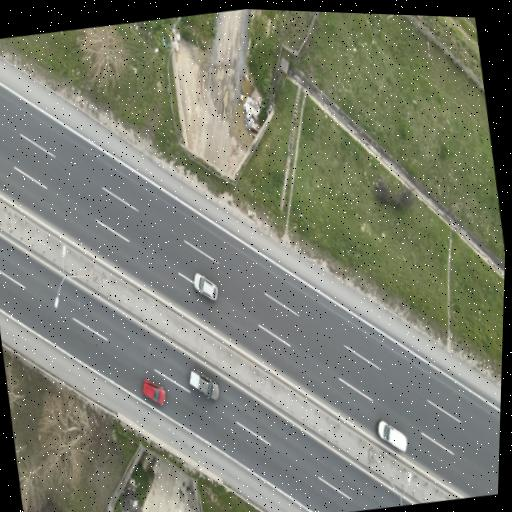car: (377, 420, 406, 450), (189, 369, 218, 398), (193, 273, 217, 299), (142, 378, 164, 404)
